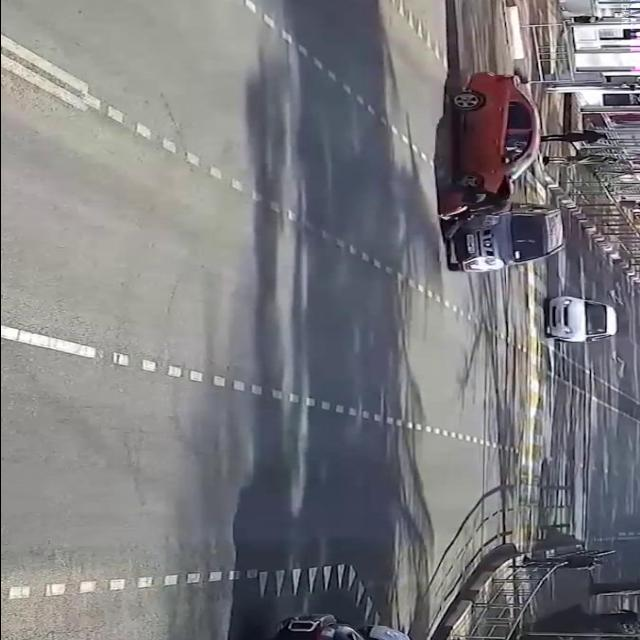accident: (432, 71, 568, 277)
